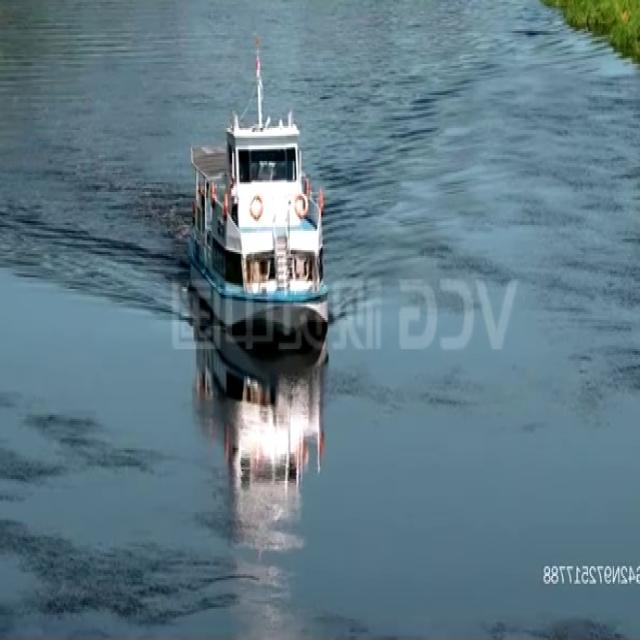passenger ship: (189, 44, 327, 340)
